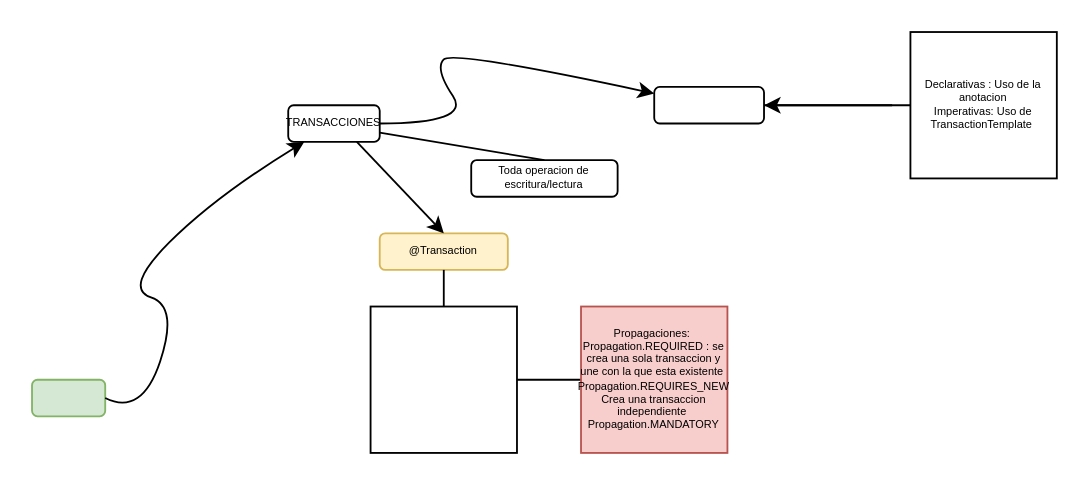
Some shapes in this 1089 by 485 pixel diagram are drawn without their labels. The centre of each missing label's shape, as x and y in pixels:
"MANEJO DE TRANSACIONES" belongs at [708,104].
"SPRING" belongs at [67,397].
"value : nombre de la transacción propagation:" belongs at [443,379].
